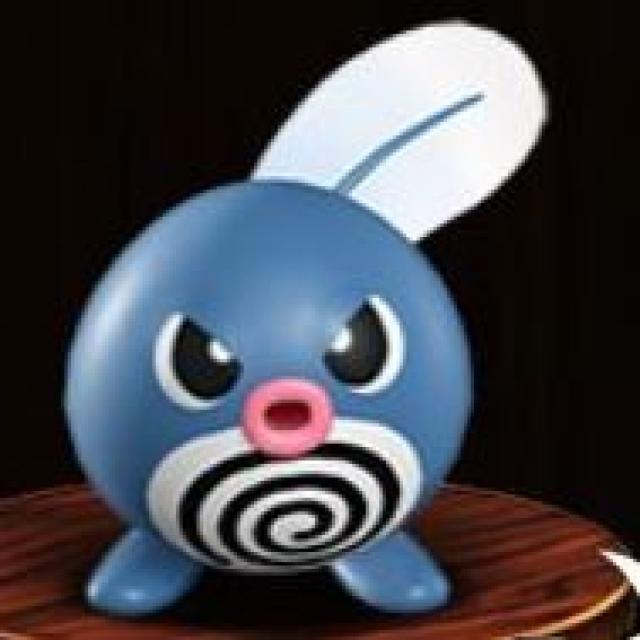Poliwag: (62, 19, 484, 640)
